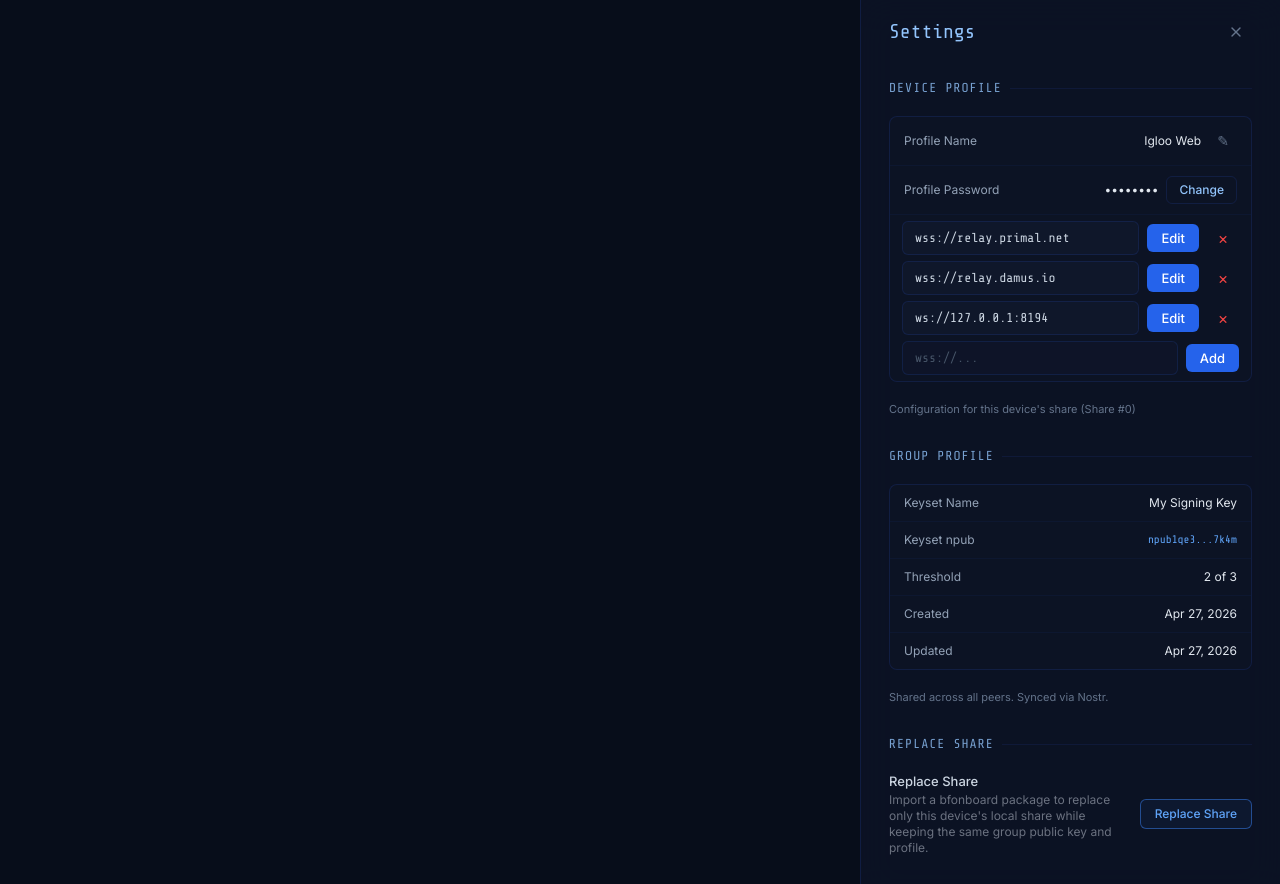
Test case: SettingsSidebar — Relay List (VAL-SETTINGS-003..006, 023) › Add rejects local relay variants even when the dev env toggle is set
This screenshot has width=1280, height=884.
Type "ws://localhost:8194" into the field named "Add relay URL".
click(1040, 358); type("ws://localhost:8194")  # box [902, 341, 1178, 375]
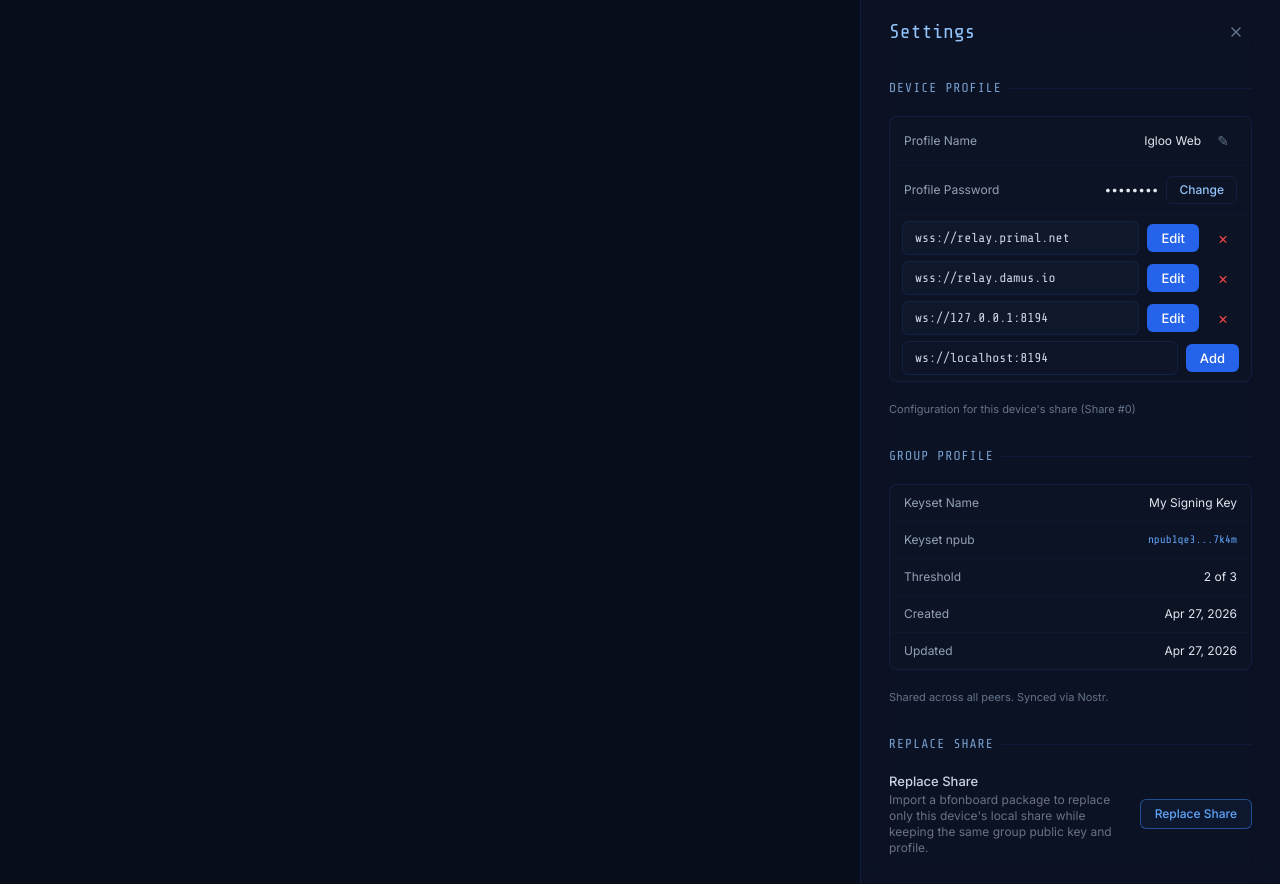
Click the button "Add".
click(1212, 358)  # box [1186, 344, 1239, 372]
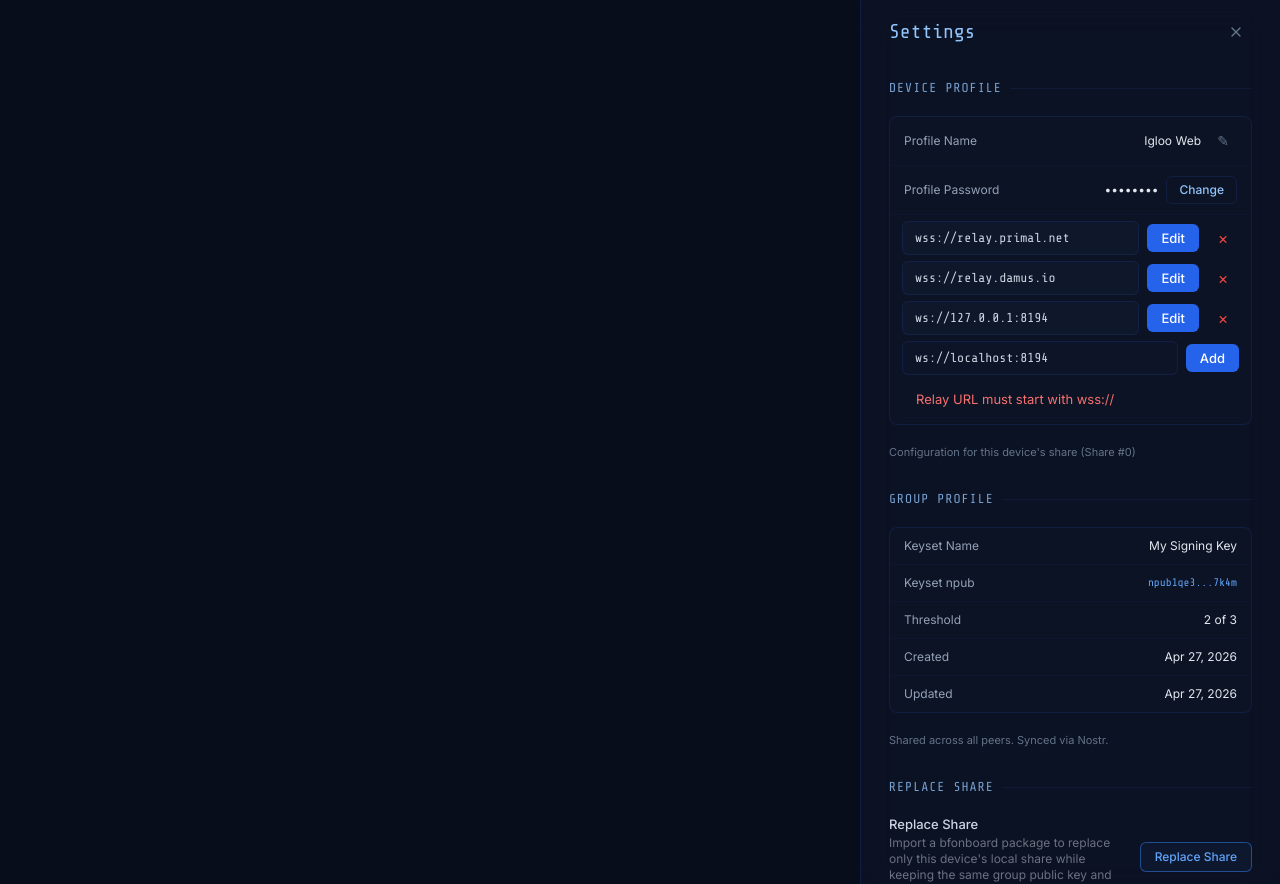
Expected: the message with test id "settings-relay-add-error" reads "Relay URL must start with wss://", [916, 391, 1114, 407]
